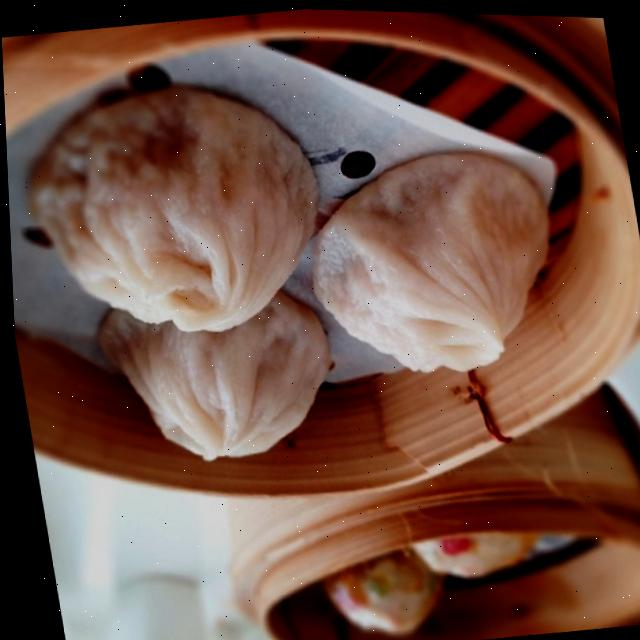带馅早点: (0, 5, 634, 537)
